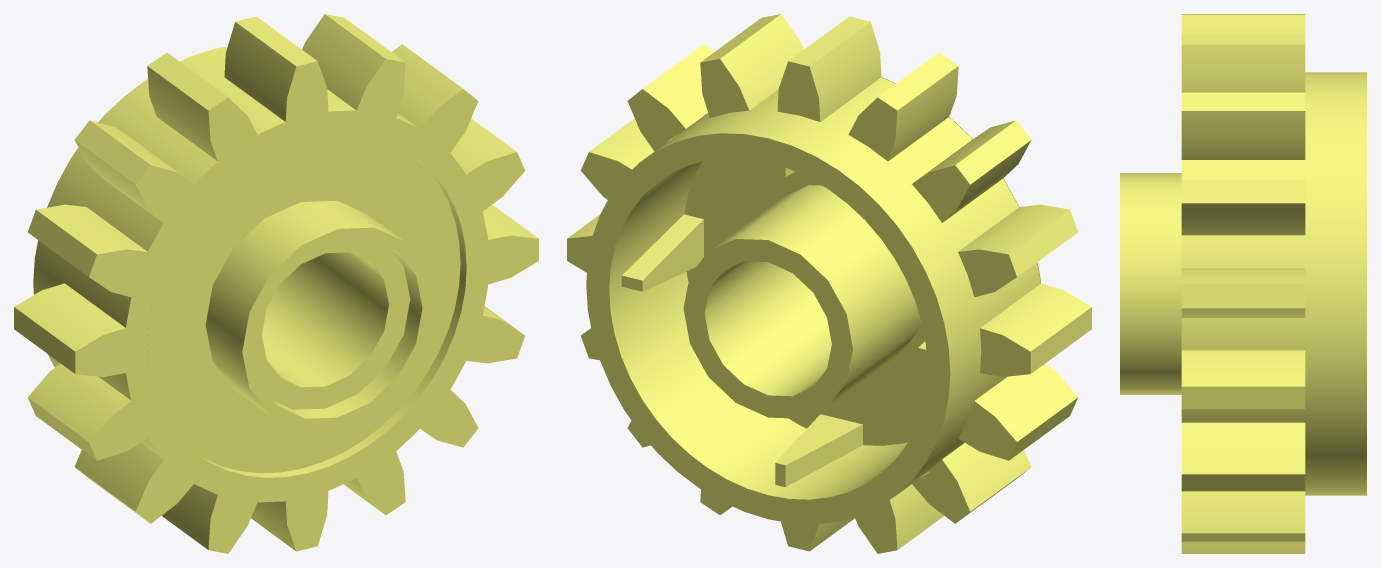
3 renders of one model, left to right at view 1: azimuth 30°, elevation 25°; view 2: azimuth 150°, elevation 25°; view 3: azimuth 270°, elevation 25°, orthographic.
Visible parts, largest first — view 1: 6542b.dat; view 2: 6542b.dat; view 3: 6542b.dat.
Boxes of the visible parts, <box> form: 6542b.dat: <box>14,14,538,553</box>; 6542b.dat: <box>567,14,1091,553</box>; 6542b.dat: <box>1120,14,1366,553</box>.
Size of the model in its own units: 0.0175 by 0.0175 by 0.008.
